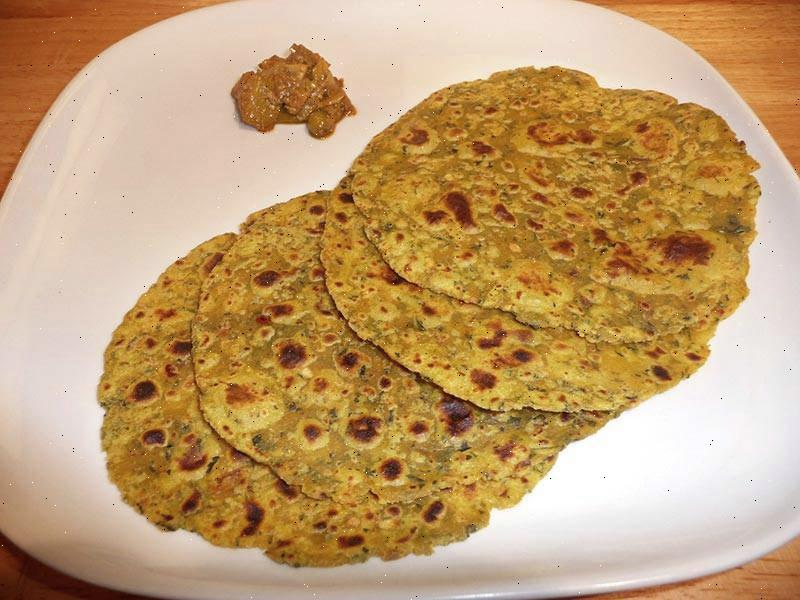thepla: (151, 174, 707, 492)
